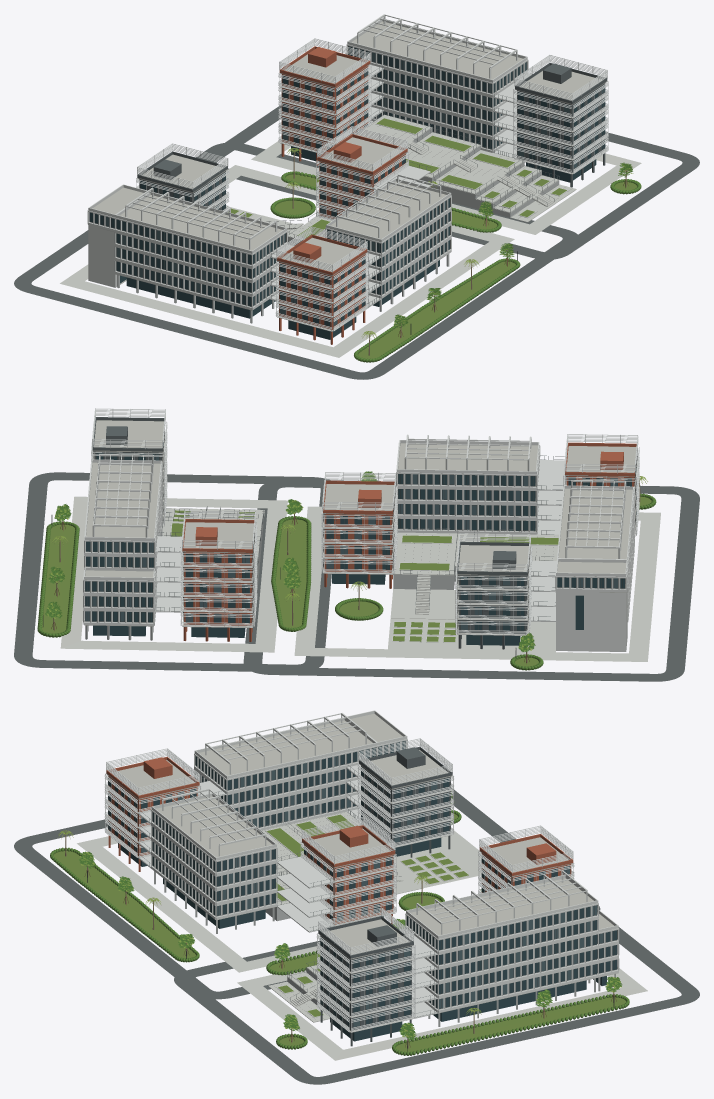
File: bupt-lod0.glb
3 views of the same model, one above another, from view 1: azimuth 30°, elevation 25°; view 2: azimuth 150°, elevation 25°; view 3: azimuth 270°, elevation 25° (orthographic). The views are drawn at different scales.
Visible parts, largest first — view 1: horizontal silver sun louvers | silver louvers, white rectangular window frames | ivory metal, floor plates and roof planes | roof, recessed blue gray windows | blue glazing, internal drive and court paving | dark paving, brick red end tower panels | red ceramic, site perimeter paving | pale paving, charcoal end tower panels | charcoal cladding, stepped garden paving | pale paving, panel joints and window mullions | window shadow, open white roof pergolas | ivory metal, connected planted lawns | lawn (+12 smaller); view 2: floor plates and roof planes | roof, horizontal silver sun louvers | silver louvers, internal drive and court paving | dark paving, site perimeter paving | pale paving, white rectangular window frames | ivory metal, recessed blue gray windows | blue glazing, brick red end tower panels | red ceramic, panel joints and window mullions | window shadow, open white roof pergolas | ivory metal, connected planted lawns | lawn, open connector floor decks | ivory metal, charcoal end tower panels | charcoal cladding (+13 smaller); view 3: white rectangular window frames | ivory metal, horizontal silver sun louvers | silver louvers, floor plates and roof planes | roof, recessed blue gray windows | blue glazing, internal drive and court paving | dark paving, charcoal end tower panels | charcoal cladding, site perimeter paving | pale paving, panel joints and window mullions | window shadow, brick red end tower panels | red ceramic, connected planted lawns | lawn, open white roof pergolas | ivory metal, open connector floor decks | ivory metal (+10 smaller).
Part boxes in pixels (left/top/right/bottom): horizontal silver sun louvers | silver louvers: left=136, top=38, right=608, bottom=331; white rectangular window frames | ivory metal: left=87, top=18, right=528, bottom=310; floor plates and roof planes | roof: left=92, top=21, right=607, bottom=331; recessed blue gray windows | blue glazing: left=89, top=46, right=605, bottom=339; internal drive and court paving | dark paving: left=14, top=105, right=699, bottom=379; brick red end tower panels | red ceramic: left=277, top=46, right=407, bottom=344; site perimeter paving | pale paving: left=60, top=141, right=641, bottom=357; charcoal end tower panels | charcoal cladding: left=137, top=62, right=607, bottom=210; stepped garden paving | pale paving: left=288, top=114, right=576, bottom=246; panel joints and window mullions | window shadow: left=89, top=46, right=604, bottom=326; open white roof pergolas | ivory metal: left=125, top=14, right=517, bottom=249; connected planted lawns | lawn: left=275, top=174, right=637, bottom=358; floor plates and roof planes | roof: left=84, top=420, right=637, bottom=635; horizontal silver sun louvers | silver louvers: left=91, top=408, right=639, bottom=635; internal drive and court paving | dark paving: left=14, top=472, right=699, bottom=681; site perimeter paving | pale paving: left=60, top=496, right=660, bottom=661; white rectangular window frames | ivory metal: left=83, top=440, right=634, bottom=626; recessed blue gray windows | blue glazing: left=85, top=442, right=636, bottom=645; brick red end tower panels | red ceramic: left=182, top=442, right=636, bottom=641; panel joints and window mullions | window shadow: left=85, top=431, right=637, bottom=632; open white roof pergolas | ivory metal: left=92, top=434, right=626, bottom=558; connected planted lawns | lawn: left=42, top=496, right=651, bottom=666; open connector floor decks | ivory metal: left=156, top=460, right=565, bottom=621; charcoal end tower panels | charcoal cladding: left=92, top=417, right=529, bottom=649; white rectangular window frames | ivory metal: left=151, top=710, right=619, bottom=1012; horizontal silver sun louvers | silver louvers: left=104, top=738, right=574, bottom=1032; floor plates and roof planes | roof: left=106, top=713, right=618, bottom=1032; recessed blue gray windows | blue glazing: left=108, top=741, right=616, bottom=1041; internal drive and court paving | dark paving: left=14, top=788, right=699, bottom=1084; charcoal end tower panels | charcoal cladding: left=318, top=746, right=452, bottom=1046; site perimeter paving | pale paving: left=77, top=830, right=647, bottom=1060; panel joints and window mullions | window shadow: left=108, top=741, right=617, bottom=1027; brick red end tower panels | red ceramic: left=106, top=756, right=573, bottom=924; connected planted lawns | lawn: left=53, top=813, right=626, bottom=1052; open white roof pergolas | ivory metal: left=162, top=713, right=587, bottom=934; open connector floor decks | ivory metal: left=138, top=764, right=438, bottom=1018.
Bounding box in the file's own units: 188 × 27.16 × 165.
